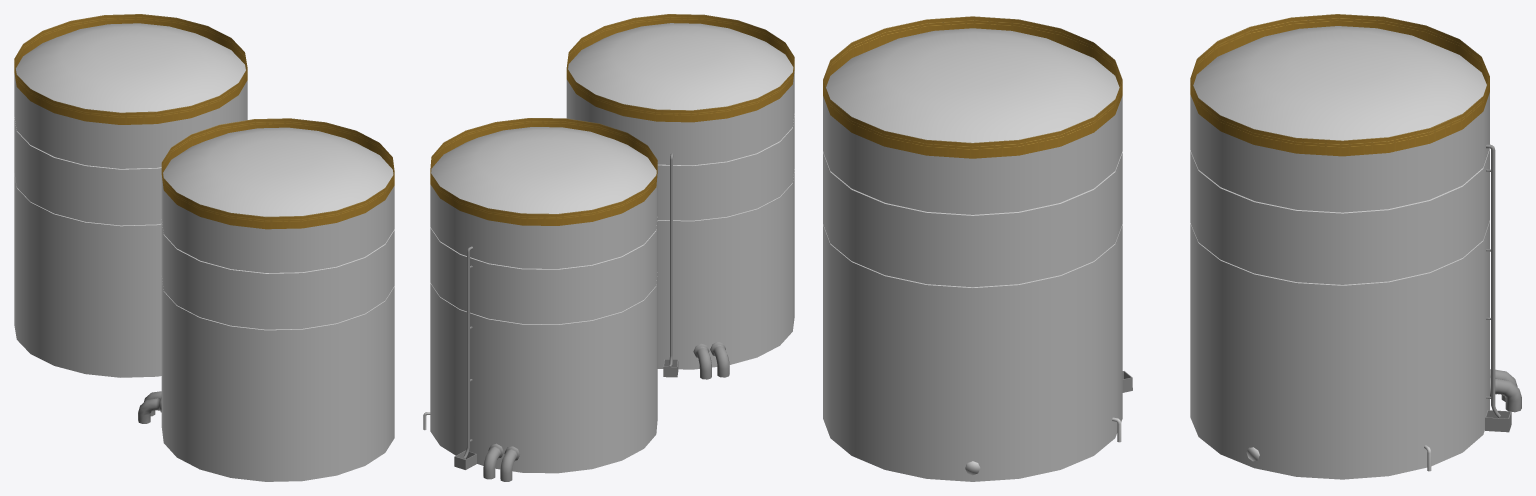
File: xiaoxingguan_xiugai_mol.FBX
The picture shows the model from 3 angles, left to right: view 1: azimuth 30°, elevation 25°; view 2: azimuth 150°, elevation 25°; view 3: azimuth 270°, elevation 25°; orthographic projection. The views are drawn at different scales.
Parts seen in each view (by area): view 1: xiaoxingguan03_xigai, xiaoxingguan_xiugai, xiaoxinggan_xiugai_bashou, Object12; view 2: xiaoxingguan_xiugai, xiaoxingguan03_xigai, xiaoxinggan_xiugai_bashou, Object07, Object12; view 3: xiaoxingguan03_xigai, xiaoxingguan_xiugai, xiaoxinggan_xiugai_bashou, Object07.
Part boxes in pixels (bbox=[...]): xiaoxingguan03_xigai: bbox=[161, 127, 394, 481]; xiaoxingguan_xiugai: bbox=[14, 23, 247, 377]; xiaoxinggan_xiugai_bashou: bbox=[14, 14, 394, 229]; Object12: bbox=[138, 391, 161, 423]; xiaoxingguan_xiugai: bbox=[423, 127, 657, 473]; xiaoxingguan03_xigai: bbox=[566, 23, 794, 369]; xiaoxinggan_xiugai_bashou: bbox=[430, 14, 794, 225]; Object07: bbox=[454, 246, 519, 481]; Object12: bbox=[663, 153, 729, 379]; xiaoxingguan03_xigai: bbox=[823, 28, 1122, 481]; xiaoxingguan_xiugai: bbox=[1190, 26, 1489, 479]; xiaoxinggan_xiugai_bashou: bbox=[823, 14, 1489, 158]; Object07: bbox=[1485, 144, 1521, 432].
Bounding box in the file's own units: 18.36 × 41.72 × 23.38.
